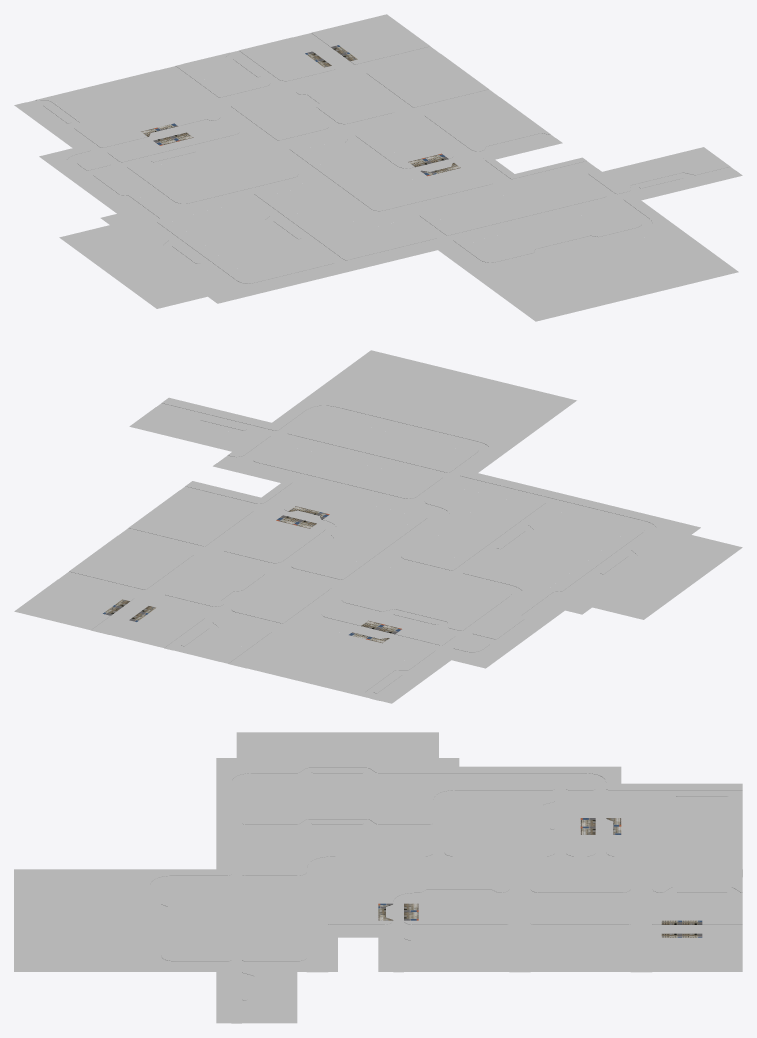
File: roadmap.fbx
The picture shows the model from 3 angles, top to bottom: view 1: azimuth 30°, elevation 25°; view 2: azimuth 150°, elevation 25°; view 3: azimuth 270°, elevation 25°; orthographic projection. The views are drawn at different scales.
Visible parts, largest first — view 1: roadmap; view 2: roadmap; view 3: roadmap.
Boxes of the visible parts, left/top/right/bottom form: roadmap: left=14, top=14, right=742, bottom=321; roadmap: left=14, top=350, right=742, bottom=703; roadmap: left=14, top=732, right=742, bottom=1023.
Bounding box in the file's own units: 740 × 0.2792 × 783.
